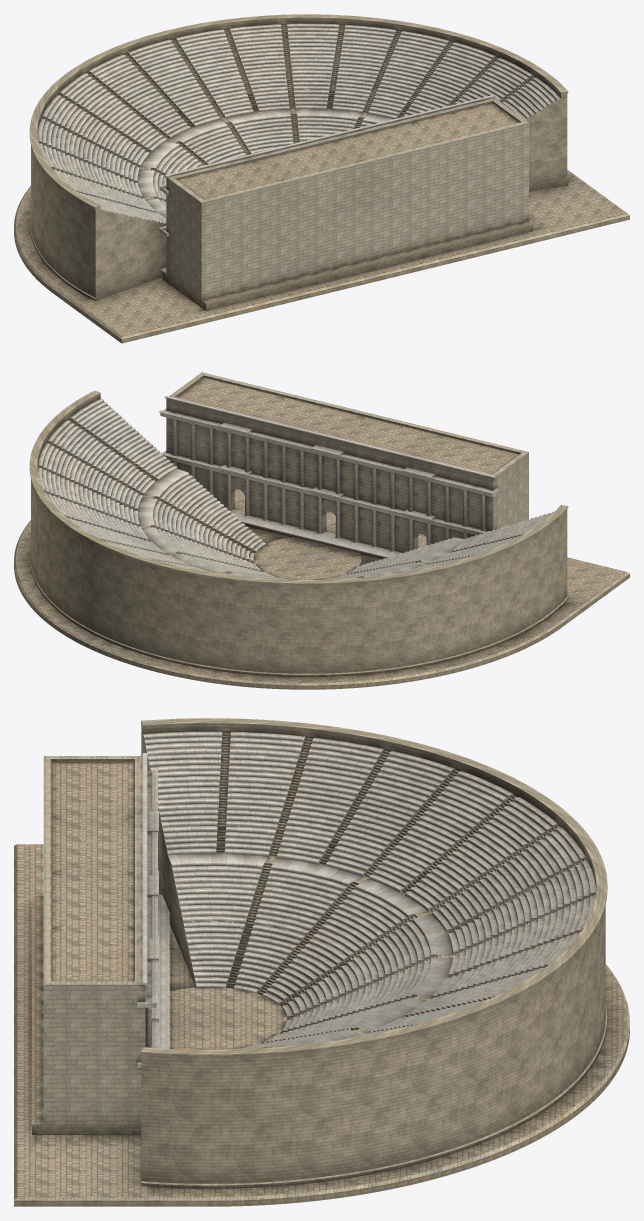
File: theatre.glb
3 renders of one model, top to bottom at view 1: azimuth 30°, elevation 25°; view 2: azimuth 150°, elevation 25°; view 3: azimuth 270°, elevation 25°, orthographic. The views are drawn at different scales.
Parts seen in each view (by area): view 1: Theatre; view 2: Theatre; view 3: Theatre.
Boxes of the visible parts, <box> form: Theatre: <box>14,14,629,343</box>; Theatre: <box>14,372,629,689</box>; Theatre: <box>14,718,629,1206</box>.
Bounding box in the file's own units: 0.7247 × 0.1533 × 0.5313.
4 materials, 4 textured.
